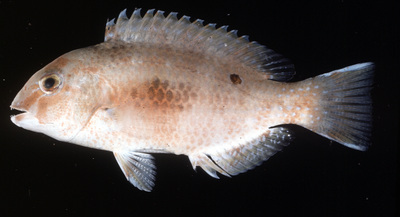fish: (10, 8, 374, 192)
